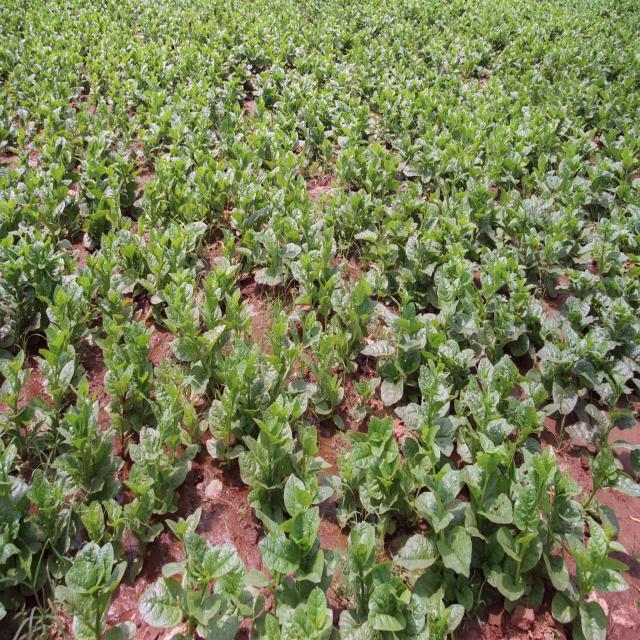Medicinal-Basale: (379, 252, 640, 414), (364, 410, 566, 585), (398, 138, 637, 241), (3, 360, 118, 551), (246, 396, 336, 582), (2, 184, 95, 356), (154, 513, 272, 640), (281, 244, 368, 359), (122, 414, 186, 548), (164, 283, 234, 394)
